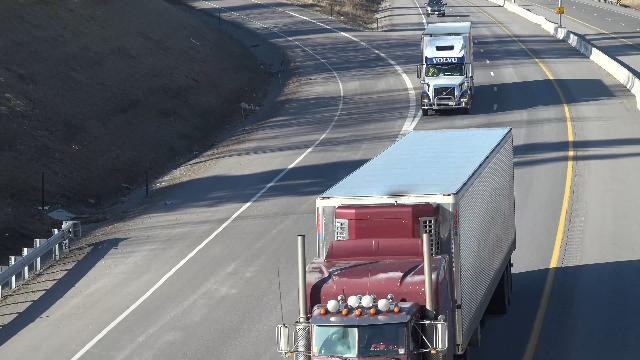car: (424, 0, 448, 19)
truck: (275, 129, 521, 359), (419, 19, 477, 117)
